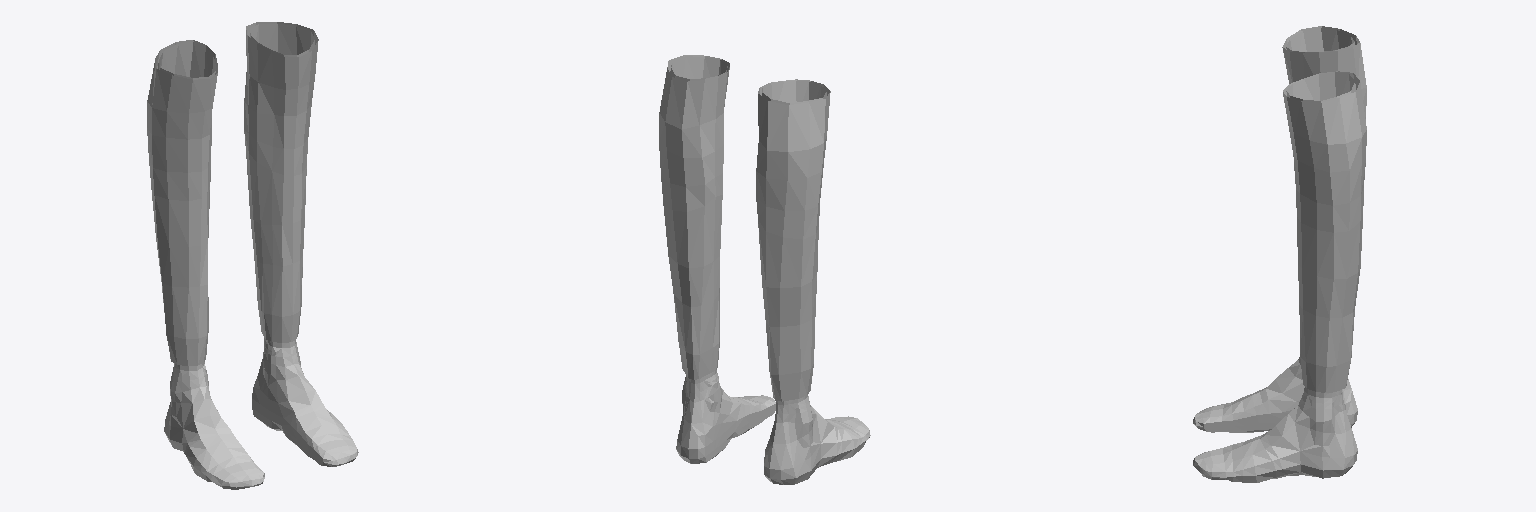
File: leg11.obj
The picture shows the model from 3 angles: view 1: azimuth 30°, elevation 25°; view 2: azimuth 150°, elevation 25°; view 3: azimuth 270°, elevation 25°; orthographic projection.
Visible parts, largest first — view 1: girl_OBJ:Mesh polySurface4, polySurface2 girl_OBJ:Mesh; view 2: girl_OBJ:Mesh polySurface4, polySurface2 girl_OBJ:Mesh; view 3: girl_OBJ:Mesh polySurface4, polySurface2 girl_OBJ:Mesh.
Part boxes in pixels (x1,y1,x2,y2): girl_OBJ:Mesh polySurface4: (147,22,318,365); polySurface2 girl_OBJ:Mesh: (158,24,358,489); girl_OBJ:Mesh polySurface4: (659,55,830,401); polySurface2 girl_OBJ:Mesh: (670,56,870,484); girl_OBJ:Mesh polySurface4: (1282,26,1366,392); polySurface2 girl_OBJ:Mesh: (1193,28,1357,482).
Bounding box in the file's own units: 0.1872 × 0.4386 × 0.1761.